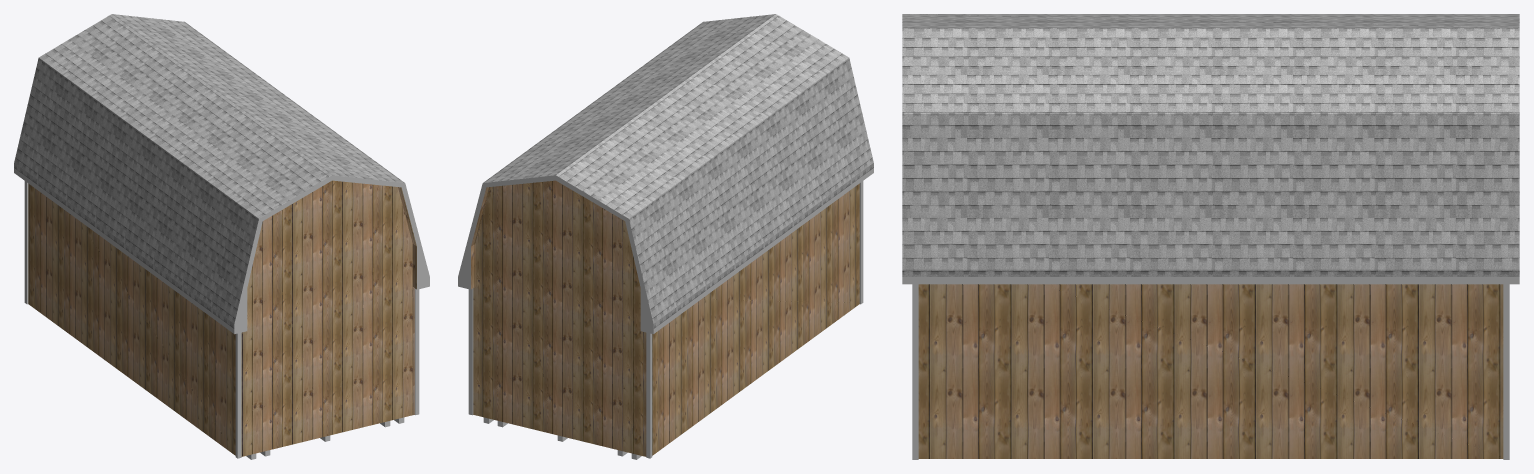
The model's file is Two Story Gambrel_12x24.obj.
3 renders of one model, left to right at view 1: azimuth 30°, elevation 25°; view 2: azimuth 150°, elevation 25°; view 3: azimuth 270°, elevation 25°, orthographic. The views are drawn at different scales.
Visible parts, largest first — view 1: Shed, Roof, Sides, Trim; view 2: Shed, Roof, Sides, Trim; view 3: Roof, Shed, Sides, Trim.
Boxes of the visible parts, box(x1,y1,x2,y2) form: Shed: box(28, 180, 416, 456); Roof: box(14, 14, 404, 328); Sides: box(14, 168, 429, 334); Trim: box(24, 181, 419, 458); Shed: box(471, 180, 859, 456); Roof: box(483, 14, 873, 328); Sides: box(458, 168, 873, 334); Trim: box(468, 181, 863, 458); Roof: box(902, 14, 1519, 276); Shed: box(918, 284, 1503, 458); Sides: box(902, 277, 1519, 284); Trim: box(912, 284, 1509, 459).
Bounding box in the file's own units: 3.9 × 5.14 × 7.62.
